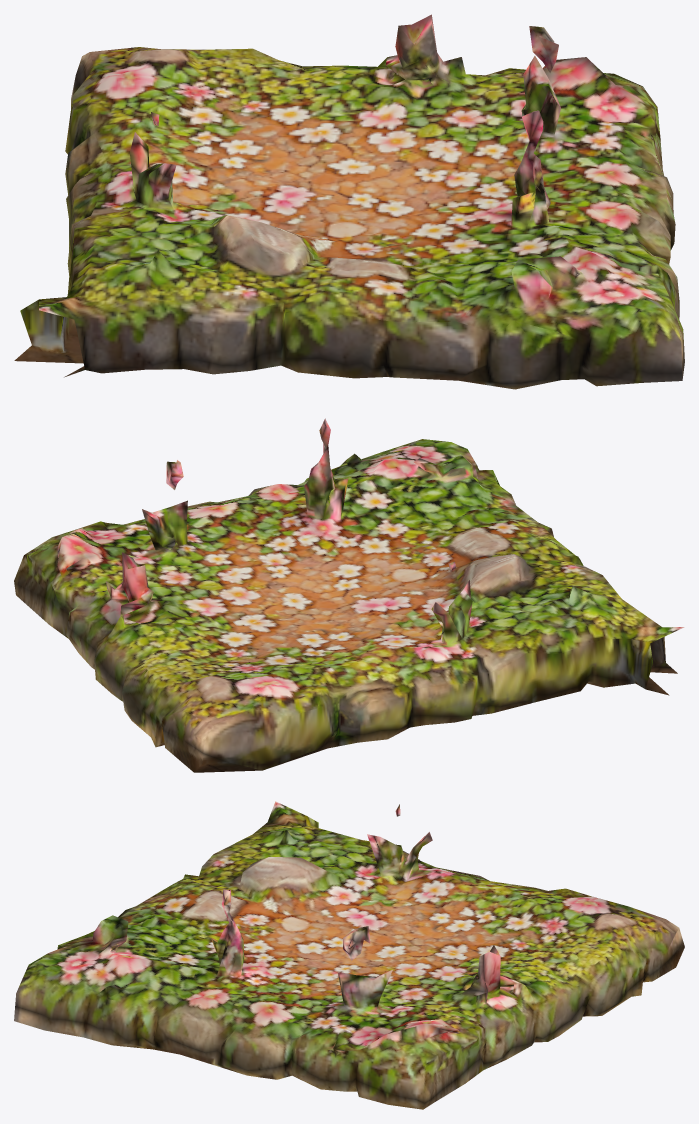
The model's file is FullBloom_Floor.fbx.
The picture shows the model from 3 angles, top to bottom: view 1: azimuth 30°, elevation 25°; view 2: azimuth 150°, elevation 25°; view 3: azimuth 270°, elevation 25°; orthographic projection. The views are drawn at different scales.
Parts seen in each view (by area): view 1: FullBloom_Floor_Mesh; view 2: FullBloom_Floor_Mesh; view 3: FullBloom_Floor_Mesh.
Part boxes in pixels (x1,y1,x2,y2): FullBloom_Floor_Mesh: [14, 14, 684, 389]; FullBloom_Floor_Mesh: [14, 418, 684, 772]; FullBloom_Floor_Mesh: [14, 801, 684, 1109].
Bounding box in the file's own units: 6 × 1.43 × 6.48.
Materials: 1 (1 with a texture image).
